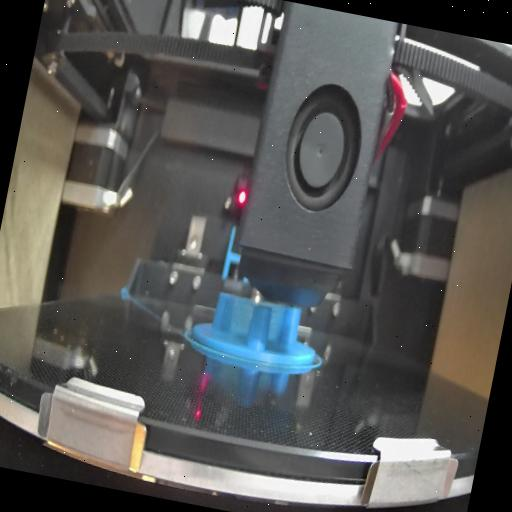stringing: (219, 293, 254, 340), (262, 302, 288, 346)
